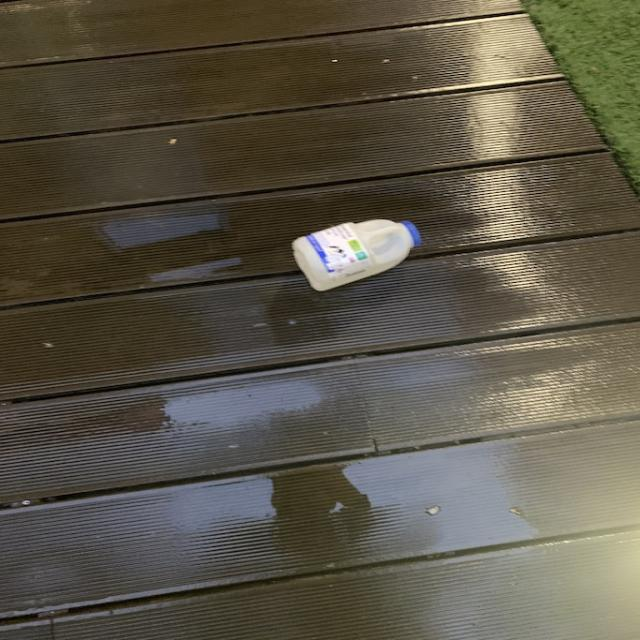HDPEM: (294, 215, 422, 293)
